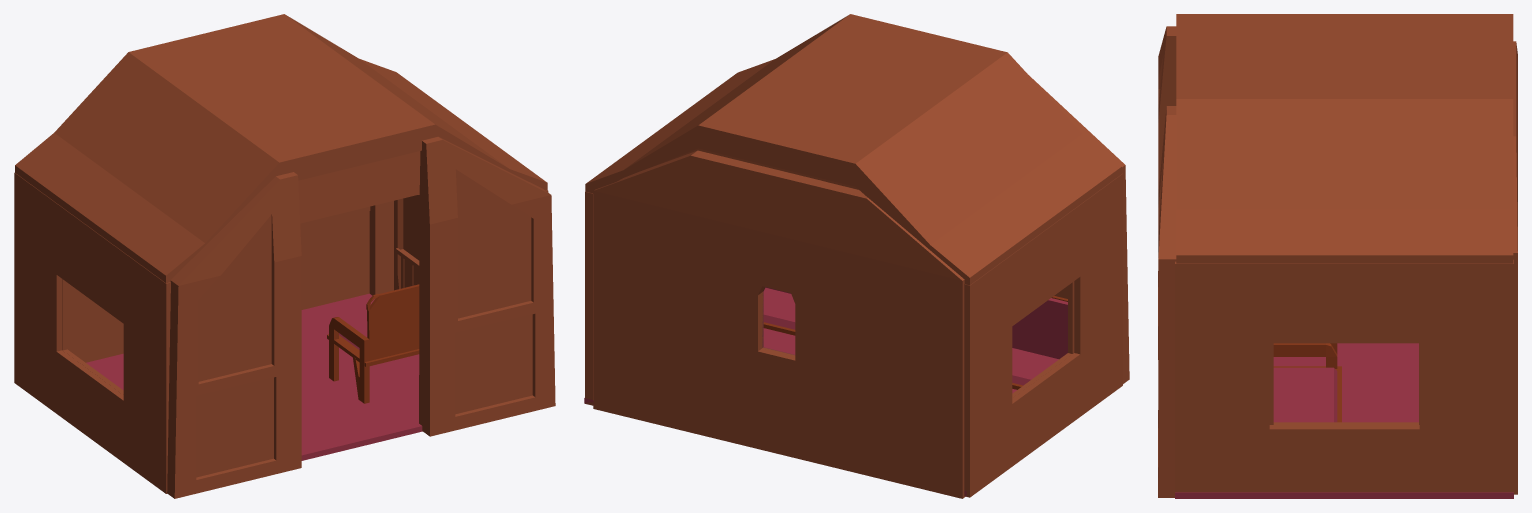
The model's file is notextdoor.fbx.
3 renders of one model, left to right at view 1: azimuth 30°, elevation 25°; view 2: azimuth 150°, elevation 25°; view 3: azimuth 270°, elevation 25°, orthographic. The views are drawn at different scales.
Visible parts, largest first — view 1: barrier, roof, TRAINbase.003, TRAINbase.002, Cube.001, top bit, TOPBACK.001, armrest2.001, pillar2, windowframe, underwindowbit.001, BOTWOOD.001; view 2: Cube.001, roof, TRAINbase.003, TOPCUSH, barrier, BOTSEAT.001, BOTSEAT, windowframe, TRAINbase.002; view 3: roof, TRAINbase.003, TRAINbase.002, barrier, BOTSEAT.001, Cube.001, armrest2.001, windowframe.001.
Boxes of the visible parts, x1,y1,x2,y2 form: barrier: (167, 136, 555, 498); roof: (15, 14, 547, 283); TRAINbase.003: (14, 172, 548, 493); TRAINbase.002: (86, 293, 422, 460); Cube.001: (67, 201, 393, 362); top bit: (298, 151, 420, 223); TOPBACK.001: (366, 284, 419, 360); armrest2.001: (329, 317, 369, 403); pillar2: (394, 198, 403, 290); windowframe: (62, 279, 123, 394); underwindowbit.001: (395, 248, 419, 288); BOTWOOD.001: (327, 334, 419, 366); Cube.001: (593, 150, 965, 498); roof: (585, 14, 1121, 285); TRAINbase.003: (585, 173, 1122, 497); TOPCUSH: (1012, 298, 1067, 359); barrier: (1029, 75, 1129, 383); BOTSEAT.001: (763, 287, 795, 329); BOTSEAT: (1012, 348, 1058, 385); windowframe: (1012, 281, 1074, 397); TRAINbase.002: (584, 328, 1016, 496); roof: (1176, 14, 1513, 263); TRAINbase.003: (1175, 259, 1513, 492); TRAINbase.002: (1175, 343, 1513, 498); barrier: (1158, 26, 1176, 497); BOTSEAT.001: (1273, 367, 1337, 422); Cube.001: (1513, 41, 1517, 494); armrest2.001: (1273, 343, 1337, 368); windowframe.001: (1269, 343, 1419, 424).
Size of the model in its own units: 597 by 454 by 435.
